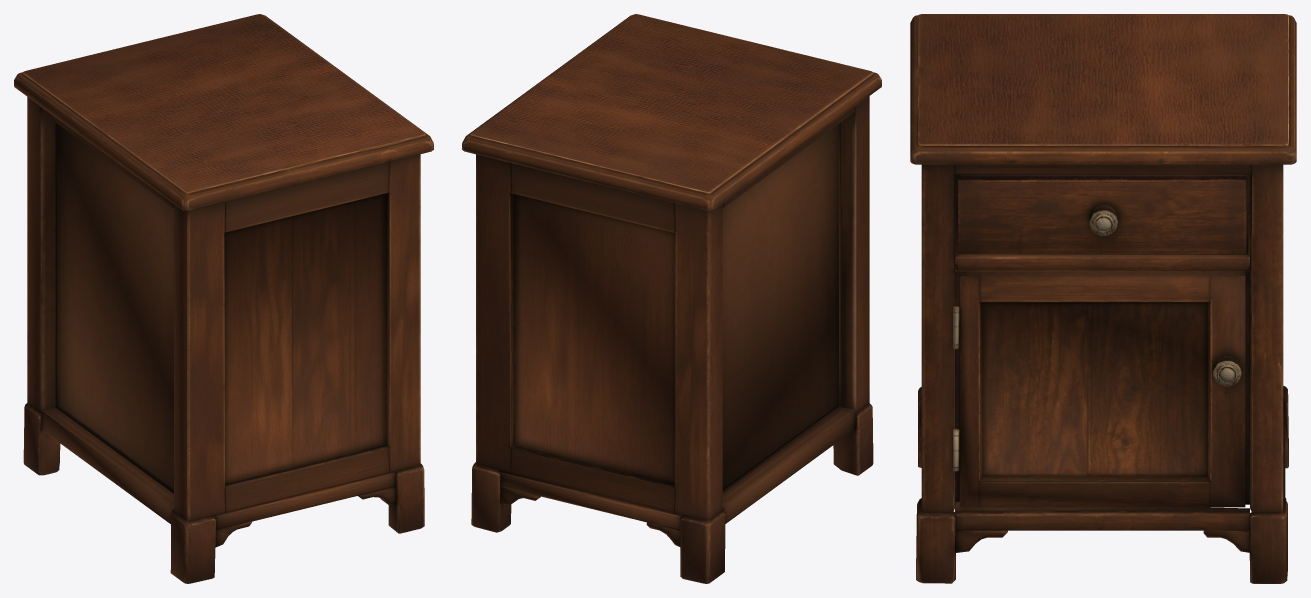
3 views of the same model, side by side, from view 1: azimuth 30°, elevation 25°; view 2: azimuth 150°, elevation 25°; view 3: azimuth 270°, elevation 25° (orthographic). The views are drawn at different scales.
Visible parts, largest first — view 1: tripo_node_d89b6185-3250-4c40-b42b-58732be9ad6e; view 2: tripo_node_d89b6185-3250-4c40-b42b-58732be9ad6e; view 3: tripo_node_d89b6185-3250-4c40-b42b-58732be9ad6e.
Part boxes in pixels (left/top/right/bottom): tripo_node_d89b6185-3250-4c40-b42b-58732be9ad6e: left=14, top=14, right=433, bottom=583; tripo_node_d89b6185-3250-4c40-b42b-58732be9ad6e: left=462, top=14, right=881, bottom=583; tripo_node_d89b6185-3250-4c40-b42b-58732be9ad6e: left=910, top=14, right=1296, bottom=583.
Size of the model in its own units: 0.6895 by 0.998 by 0.7949.
1 material, 1 textured.
